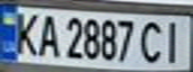2: (60, 14, 84, 61)
7: (115, 17, 139, 63)
8: (78, 15, 103, 61), (100, 16, 121, 62)
A: (33, 10, 60, 58)
C: (136, 18, 169, 65)
I: (157, 17, 190, 64)
K: (9, 8, 42, 57)
